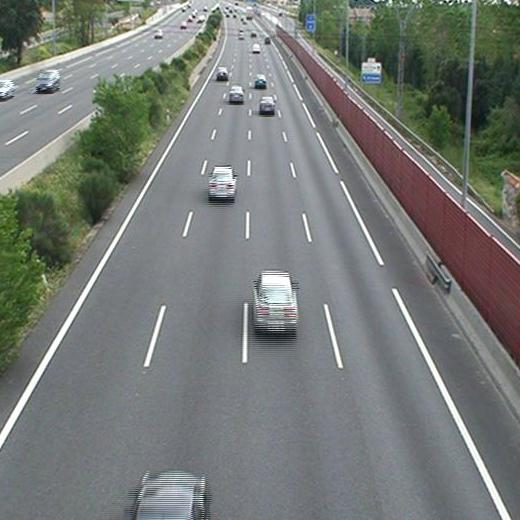car: (253, 272, 297, 331), (208, 167, 235, 196), (258, 96, 276, 113), (229, 86, 244, 102), (216, 68, 228, 79), (254, 74, 265, 85), (251, 43, 261, 53)
